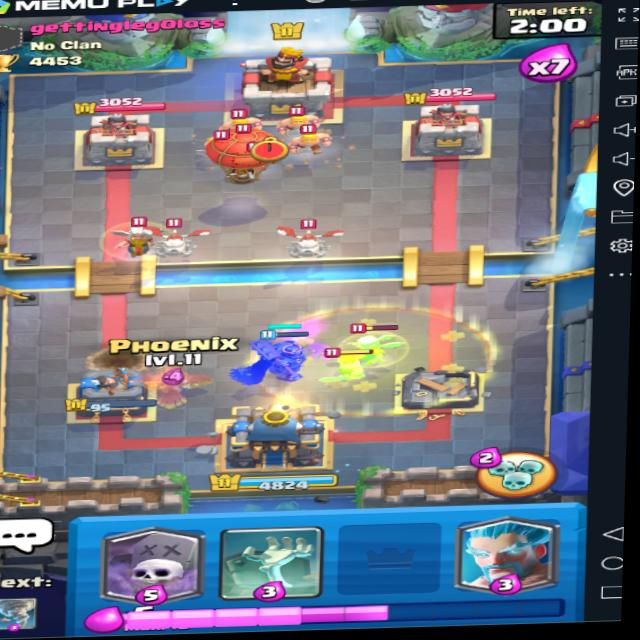balloon: (208, 119, 283, 184)
barbarian: (284, 126, 333, 160), (210, 103, 269, 131), (330, 349, 368, 384), (281, 107, 333, 132)
battle-healer: (92, 214, 183, 264), (336, 321, 418, 371)
skeleton-dragon: (272, 223, 348, 260), (145, 220, 211, 259)
